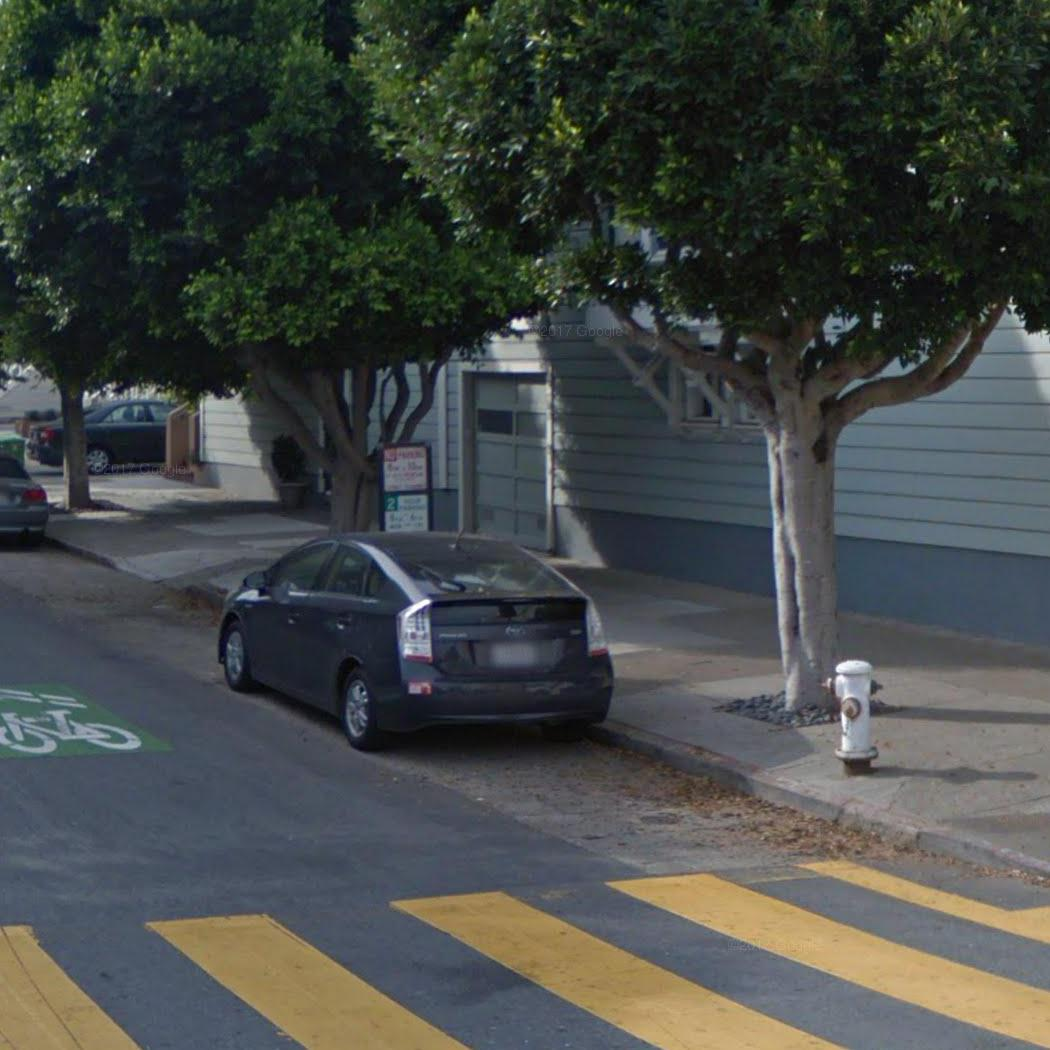2 Hour Parking: (380, 492, 431, 533)
No Parking: (379, 443, 431, 493)
